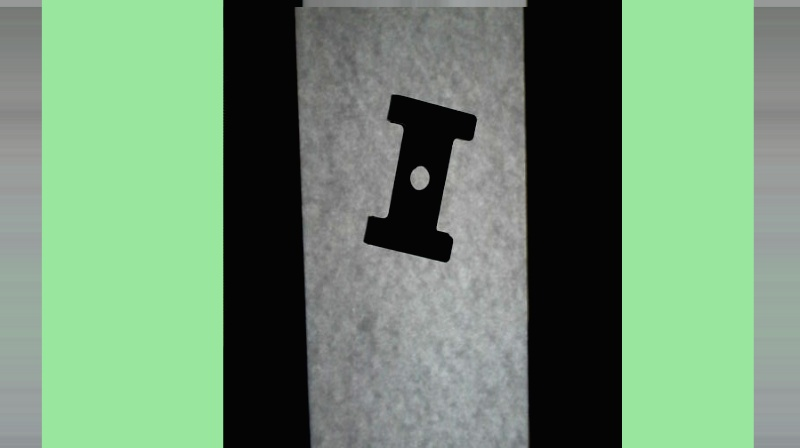O002: (362, 88, 478, 265)
